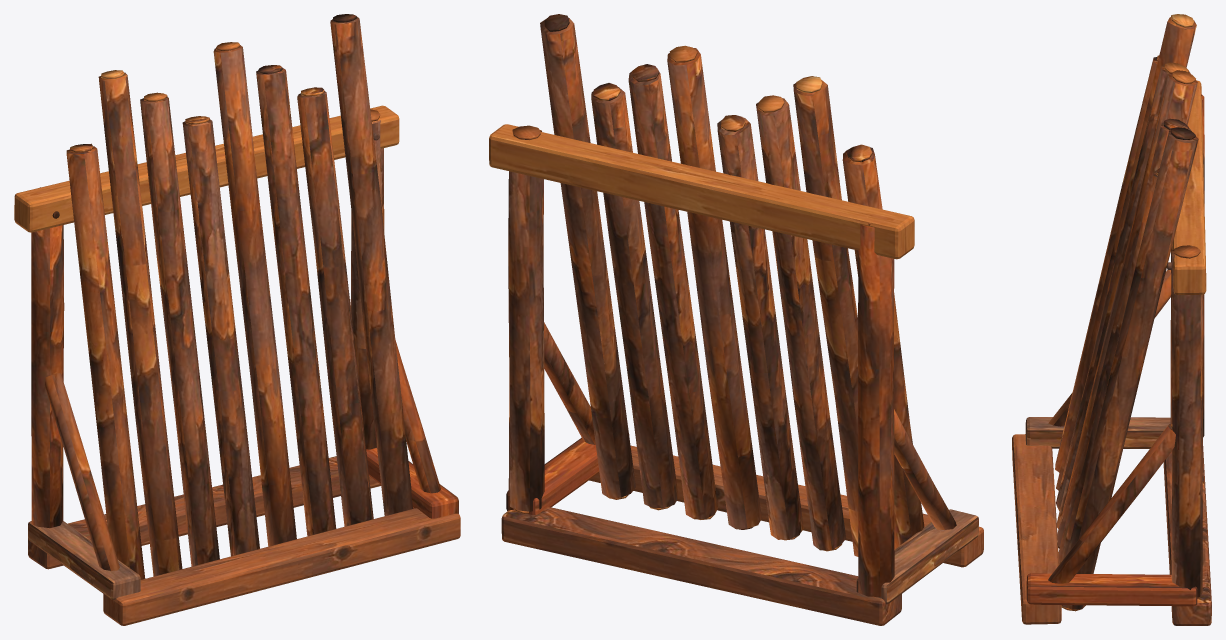
The model's file is mp_prop_rack.glb.
3 views of the same model, side by side, from view 1: azimuth 30°, elevation 25°; view 2: azimuth 150°, elevation 25°; view 3: azimuth 270°, elevation 25° (orthographic). The views are drawn at different scales.
Visible parts, largest first — view 1: model; view 2: model; view 3: model.
Boxes of the visible parts, x1=… form: model: x1=14, y1=14, x2=460, y2=625; model: x1=489, y1=14, x2=983, y2=625; model: x1=1012, y1=14, x2=1211, y2=625.
Bounding box in the file's own units: 1.56 × 1.89 × 0.7168.
Materials: 15 (15 with a texture image).
